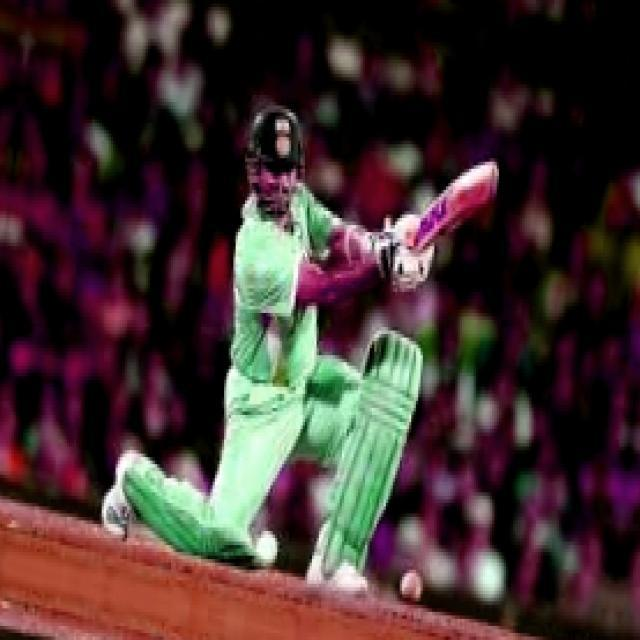bat: (408, 157, 510, 243)
